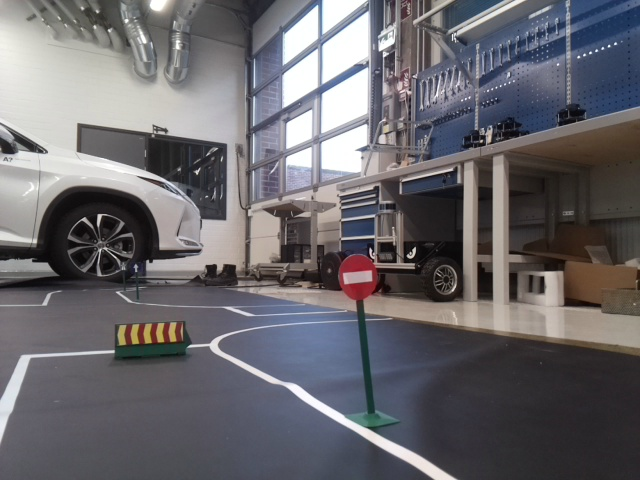ClosedRoadStand: (114, 321, 186, 343)
NoEntry: (335, 255, 379, 299)
